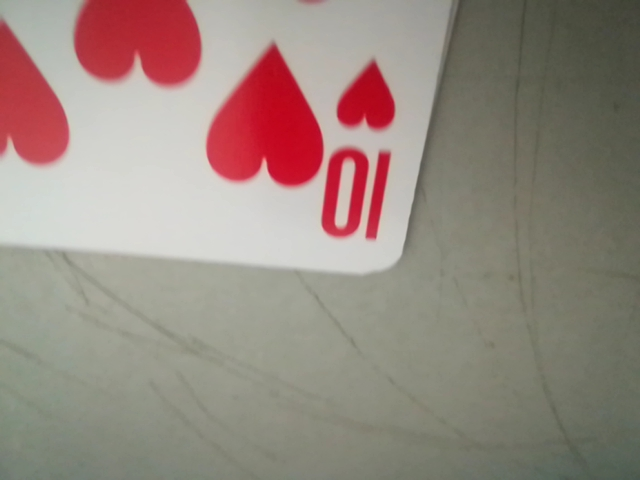hx 10: (318, 53, 400, 251)
